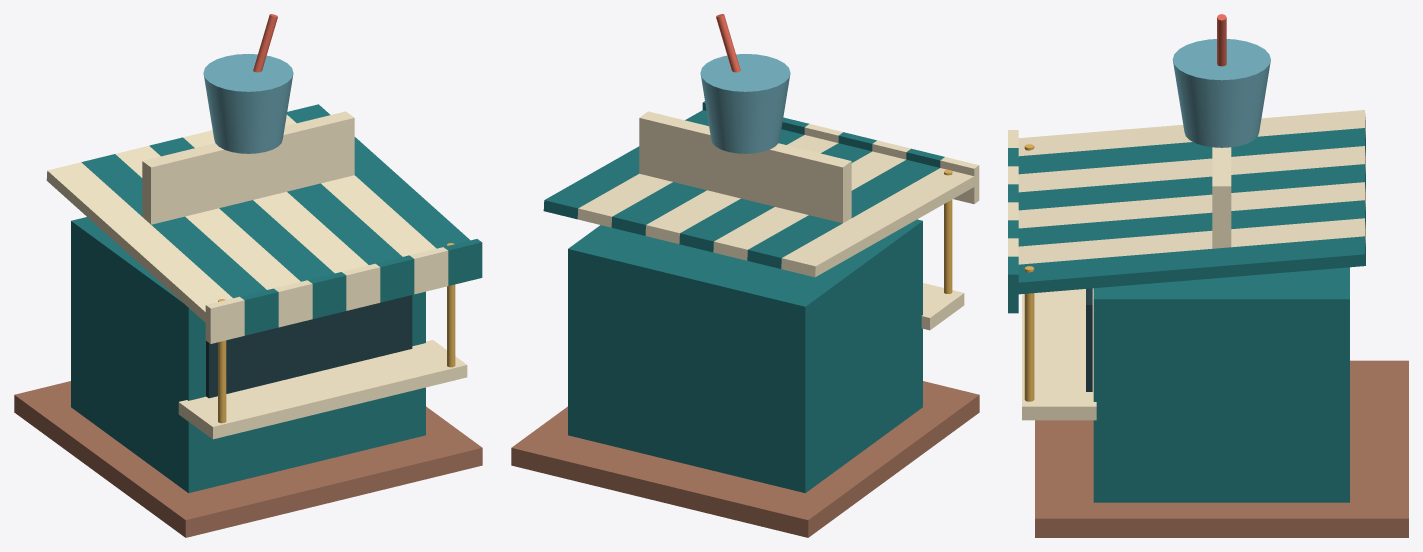
The model's file is stall_drink.glb.
3 views of the same model, side by side, from view 1: azimuth 30°, elevation 25°; view 2: azimuth 150°, elevation 25°; view 3: azimuth 270°, elevation 25° (orthographic). The views are drawn at different scales.
Visible parts, largest first — view 1: stall_drink; view 2: stall_drink; view 3: stall_drink.
Boxes of the visible parts, x1=… form: stall_drink: x1=14, y1=14, x2=482, y2=537; stall_drink: x1=511, y1=14, x2=979, y2=537; stall_drink: x1=1008, y1=14, x2=1408, y2=537.
Size of the model in its own units: 3.5 by 4.71 by 3.75.
